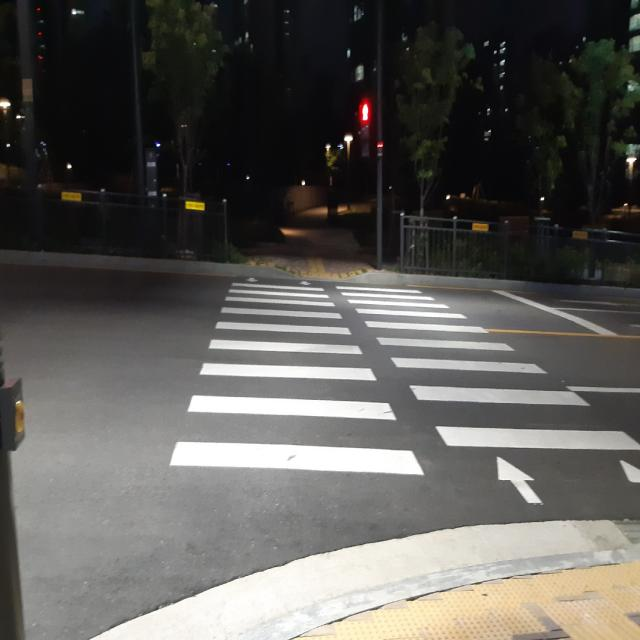빨간불: (358, 100, 372, 153)
횡단보도: (170, 274, 640, 504)
